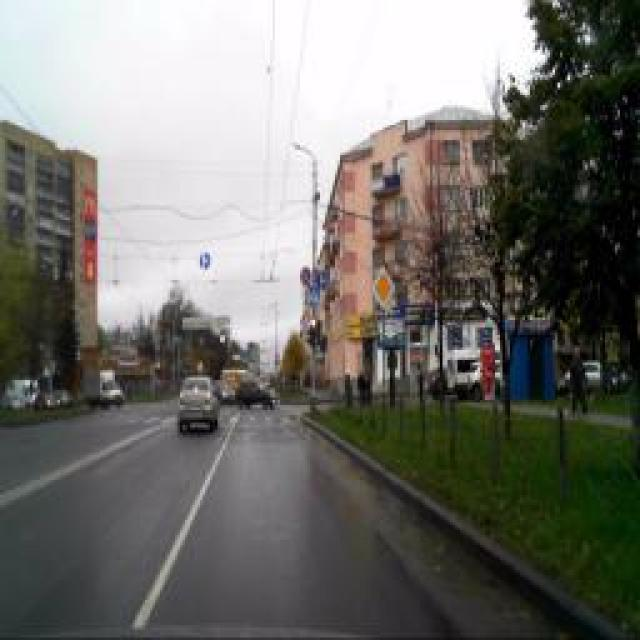sign: (300, 265, 312, 287)
